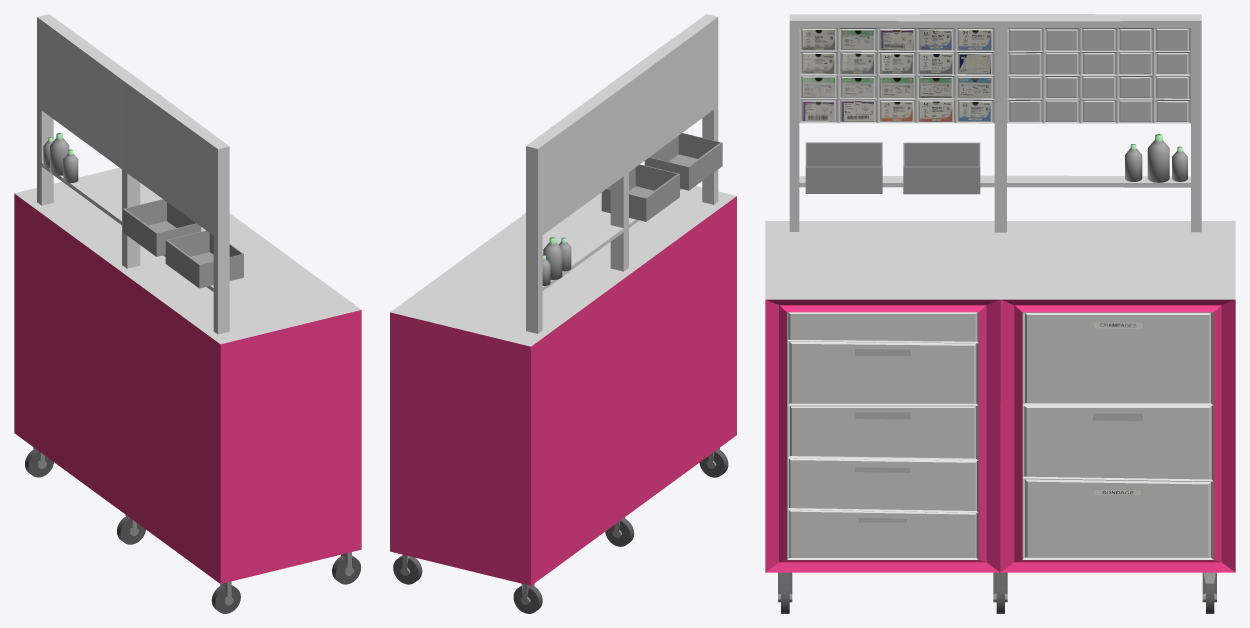
Rendered from meuble_rangement.fbx.
The picture shows the model from 3 angles, left to right: view 1: azimuth 30°, elevation 25°; view 2: azimuth 150°, elevation 25°; view 3: azimuth 270°, elevation 25°; orthographic projection. The views are drawn at different scales.
Parts seen in each view (by area): view 1: Cube, Cube.001, Cylinder; view 2: Cube, Cube.001, Cylinder; view 3: Cube, Cube.001, Cylinder.
Part boxes in pixels (x1,y1,x2,y2): Cube: (14, 14, 361, 613); Cube.001: (123, 199, 243, 288); Cylinder: (43, 133, 78, 183); Cube: (390, 14, 736, 613); Cube.001: (601, 133, 722, 221); Cylinder: (542, 237, 571, 285); Cube: (765, 14, 1235, 613); Cube.001: (805, 142, 980, 194); Cylinder: (1125, 134, 1187, 182).
Size of the model in its own units: 214 by 626 by 506.
